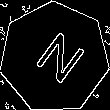N_SW: (24, 25, 85, 90)
